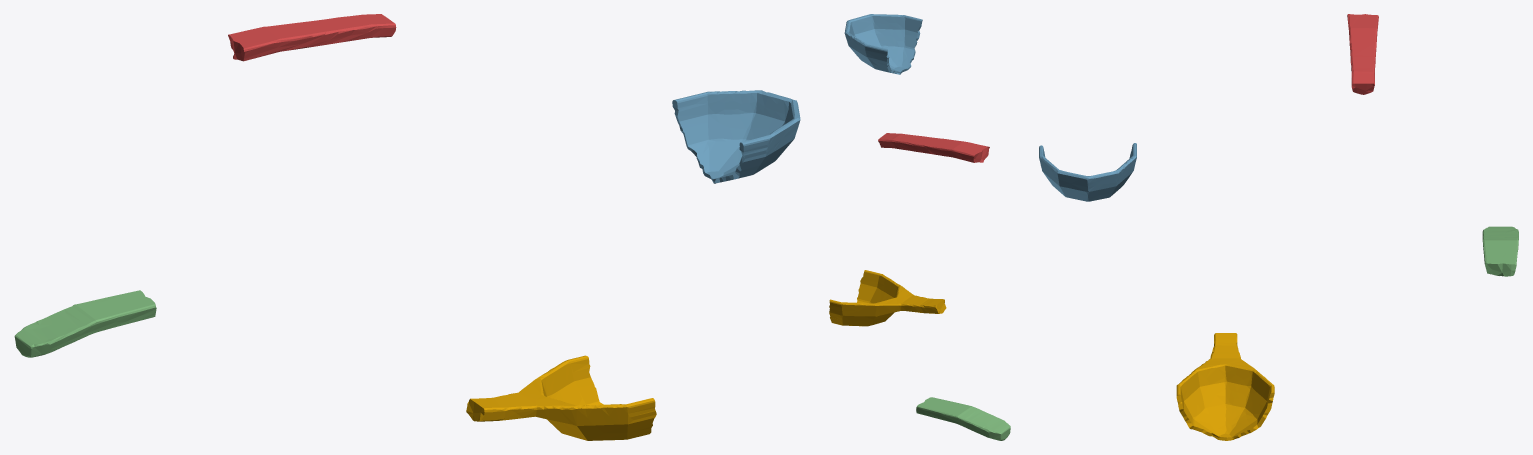
The model's file is mode_3_4pcs_transformed.glb.
3 renders of one model, left to right at view 1: azimuth 30°, elevation 25°; view 2: azimuth 150°, elevation 25°; view 3: azimuth 270°, elevation 25°, orthographic. The views are drawn at different scales.
Parts seen in each view (by area): view 1: piece_2.obj, piece_0.obj, piece_3.obj, piece_1.obj; view 2: piece_2.obj, piece_0.obj, piece_3.obj, piece_1.obj; view 3: piece_0.obj, piece_2.obj, piece_1.obj, piece_3.obj.
Boxes of the visible parts, x1=… form: piece_2.obj: x1=672, y1=90, x2=800, y2=183; piece_0.obj: x1=466, y1=355, x2=656, y2=440; piece_3.obj: x1=14, y1=290, x2=156, y2=357; piece_1.obj: x1=228, y1=14, x2=396, y2=61; piece_2.obj: x1=844, y1=14, x2=922, y2=74; piece_0.obj: x1=829, y1=270, x2=946, y2=326; piece_3.obj: x1=916, y1=397, x2=1010, y2=440; piece_1.obj: x1=878, y1=133, x2=989, y2=162; piece_0.obj: x1=1176, y1=333, x2=1274, y2=440; piece_2.obj: x1=1039, y1=143, x2=1136, y2=201; piece_1.obj: x1=1347, y1=14, x2=1378, y2=94; piece_3.obj: x1=1482, y1=226, x2=1518, y2=276.
Bounding box in the file's own units: 1 × 0.7529 × 1.05.
